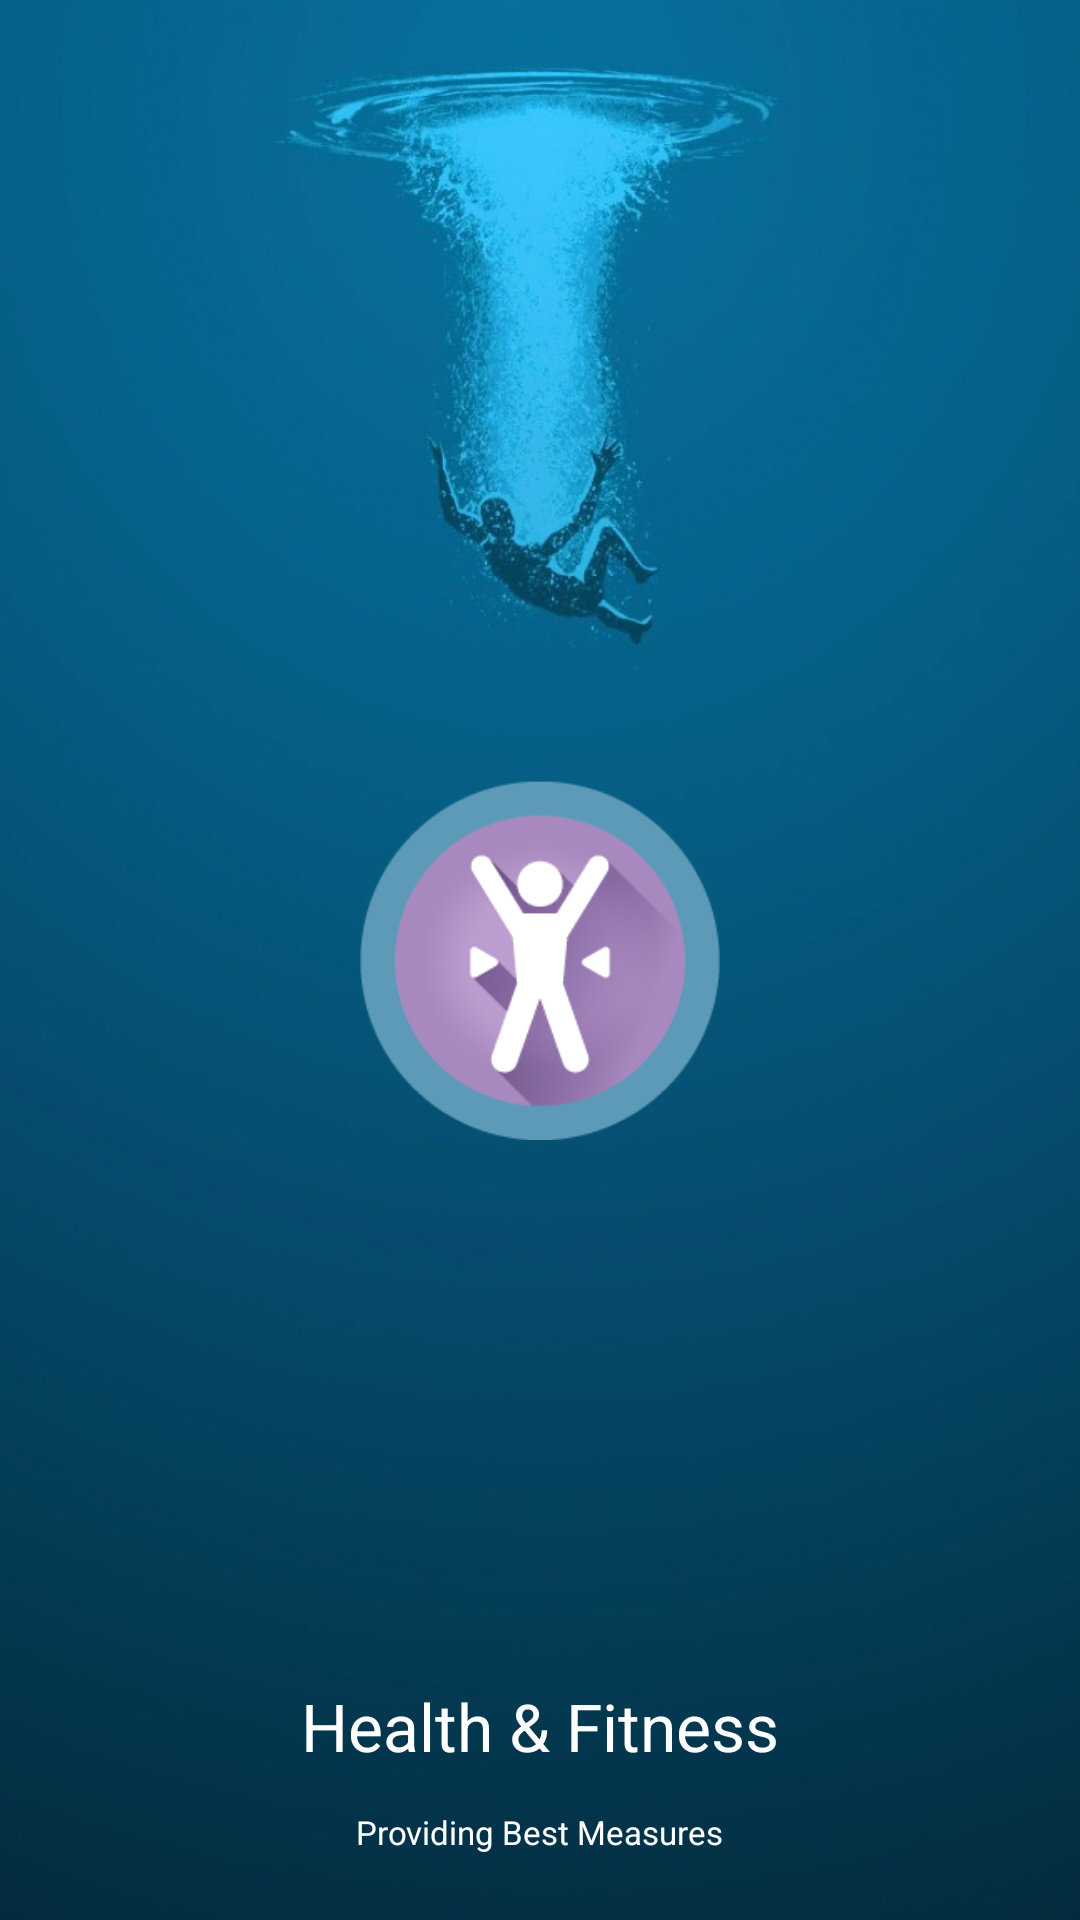

Named icons in this screenshot (1080×1920) and their bounding boxes, BBox(x1, y1, x2, y2):
health: BBox(360, 781, 720, 1140)
